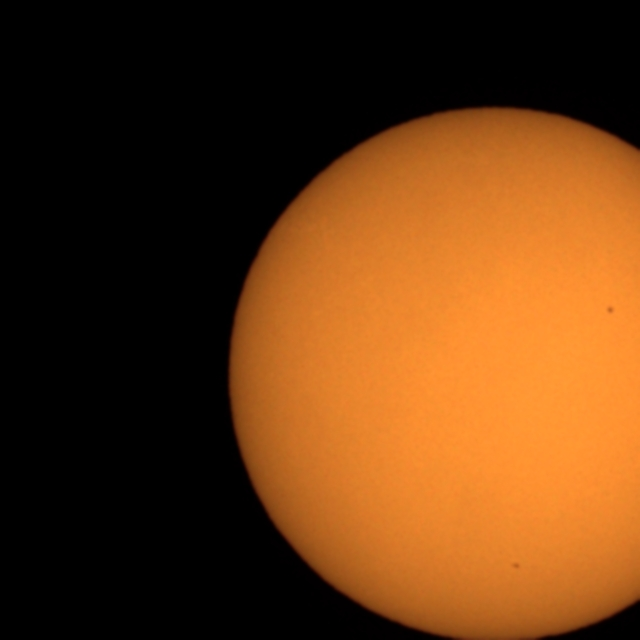sunspot: (605, 304, 616, 316), (510, 560, 522, 570)
